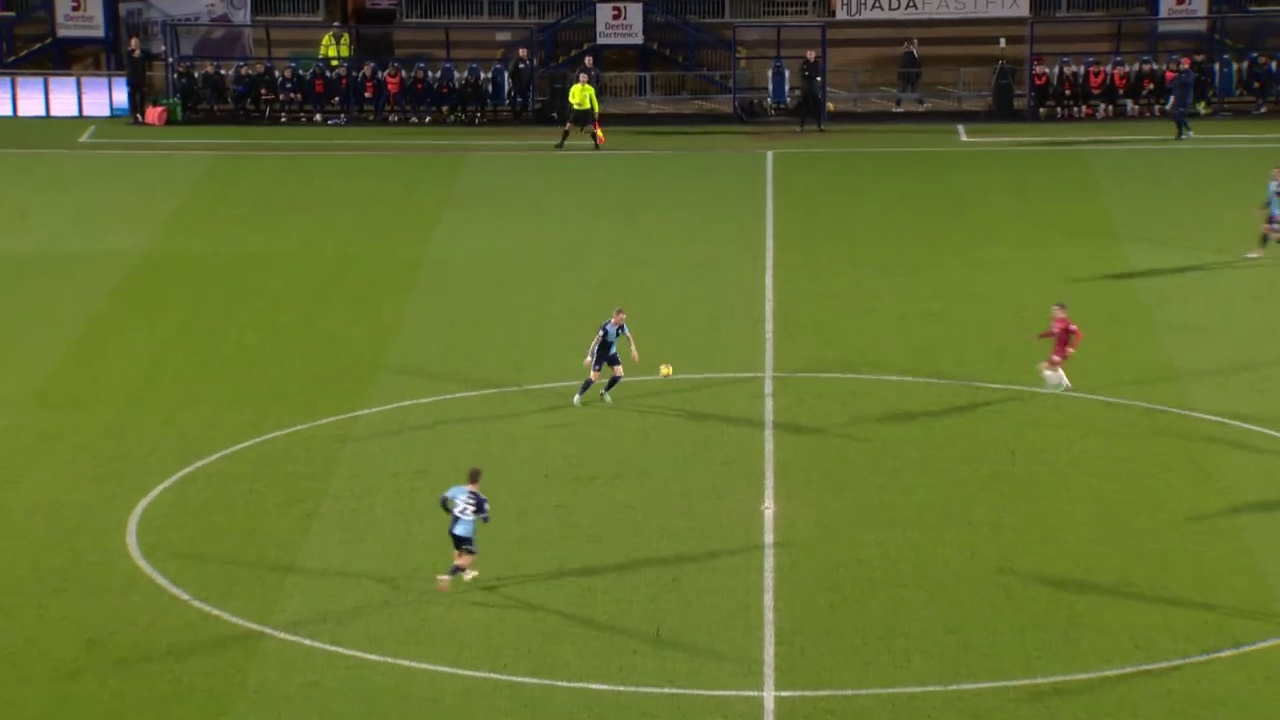ball: (632, 272, 659, 298)
